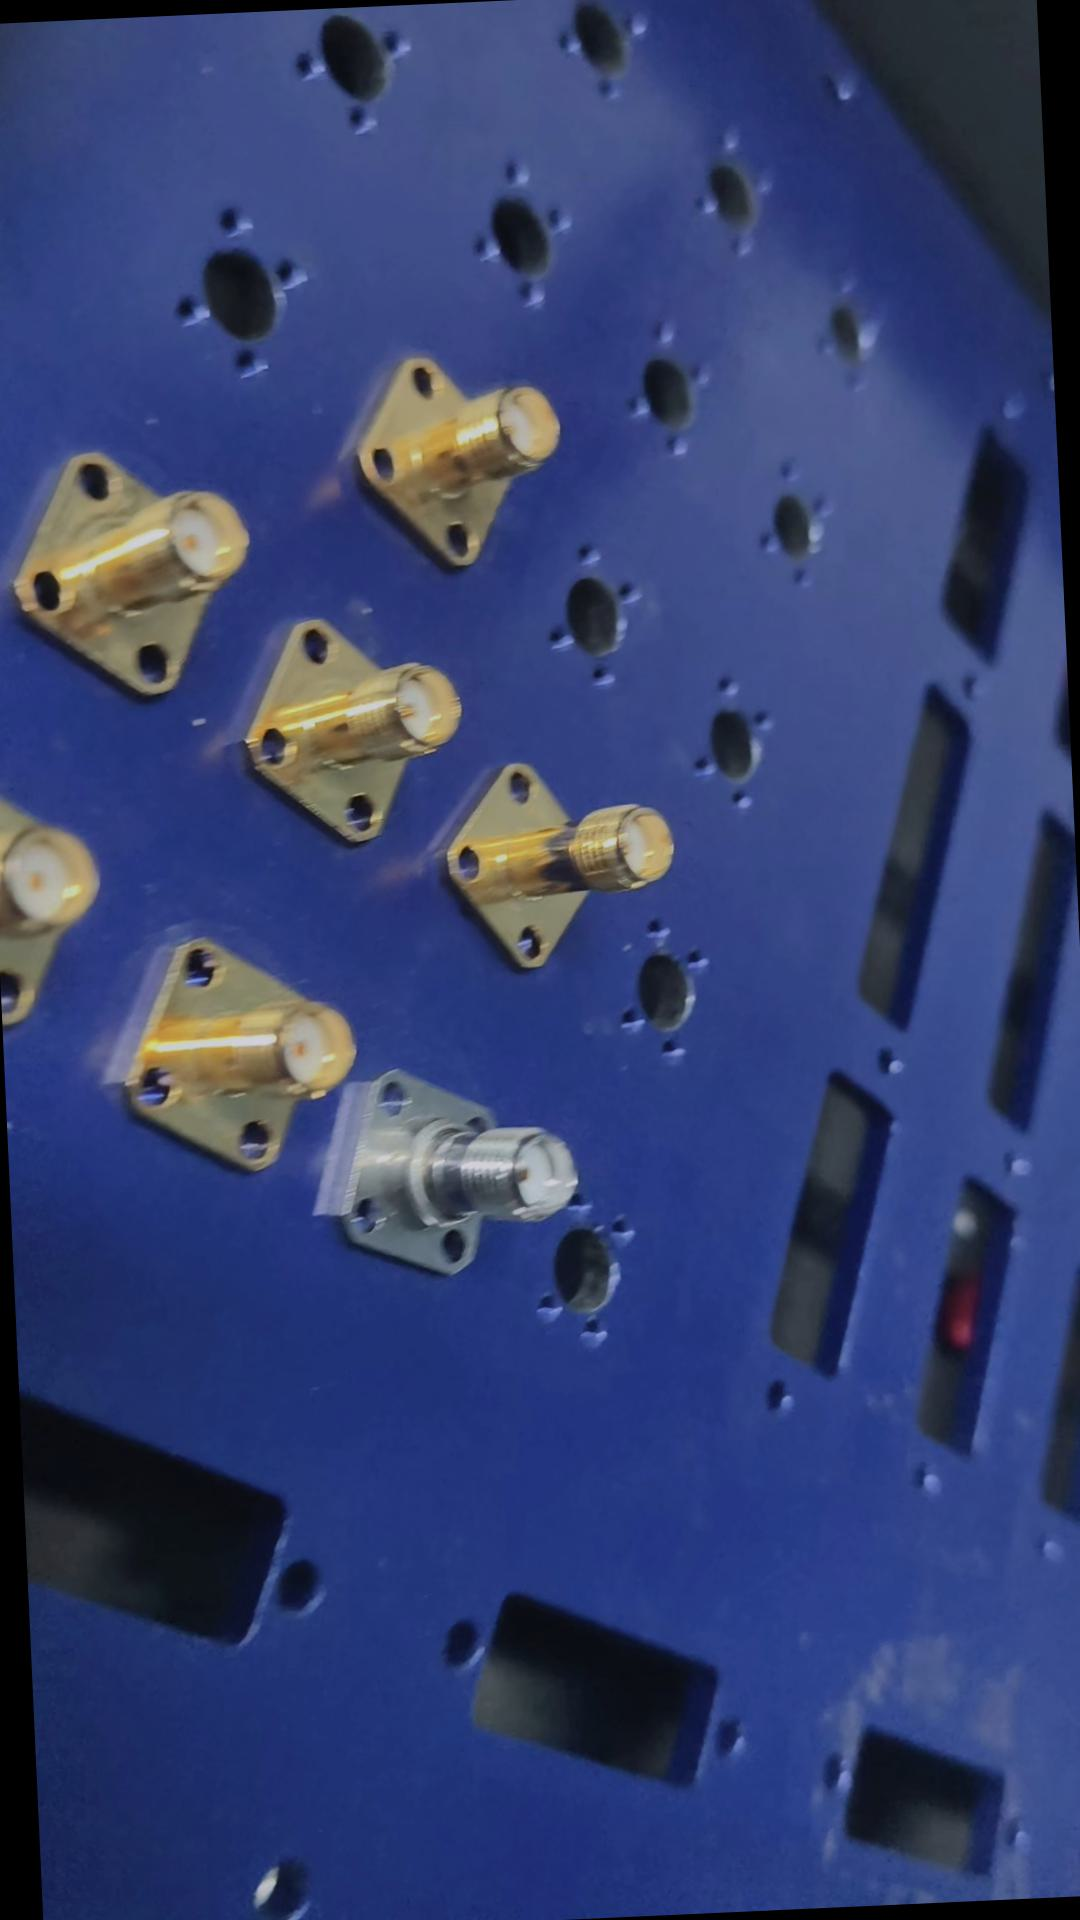SMA: (13, 440, 268, 705), (318, 1034, 585, 1280), (127, 926, 371, 1193), (444, 719, 676, 977), (349, 326, 571, 575), (245, 609, 469, 851)
